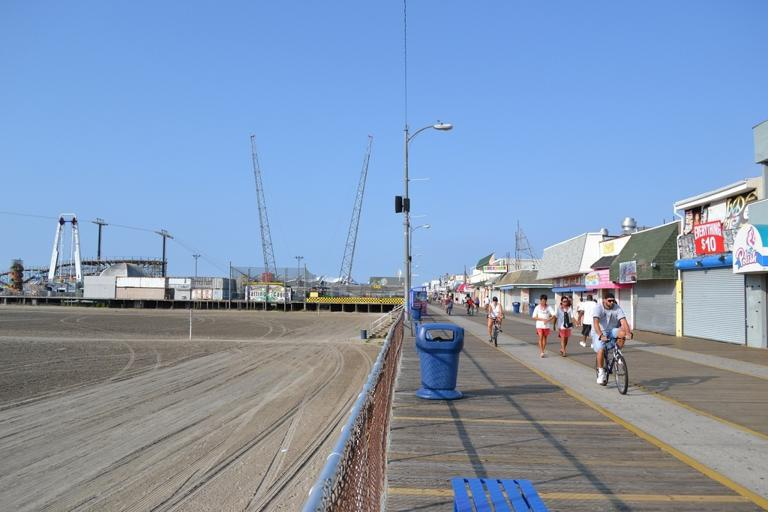non-vehicle: (594, 332, 633, 393), (486, 312, 505, 347), (468, 306, 474, 315)
